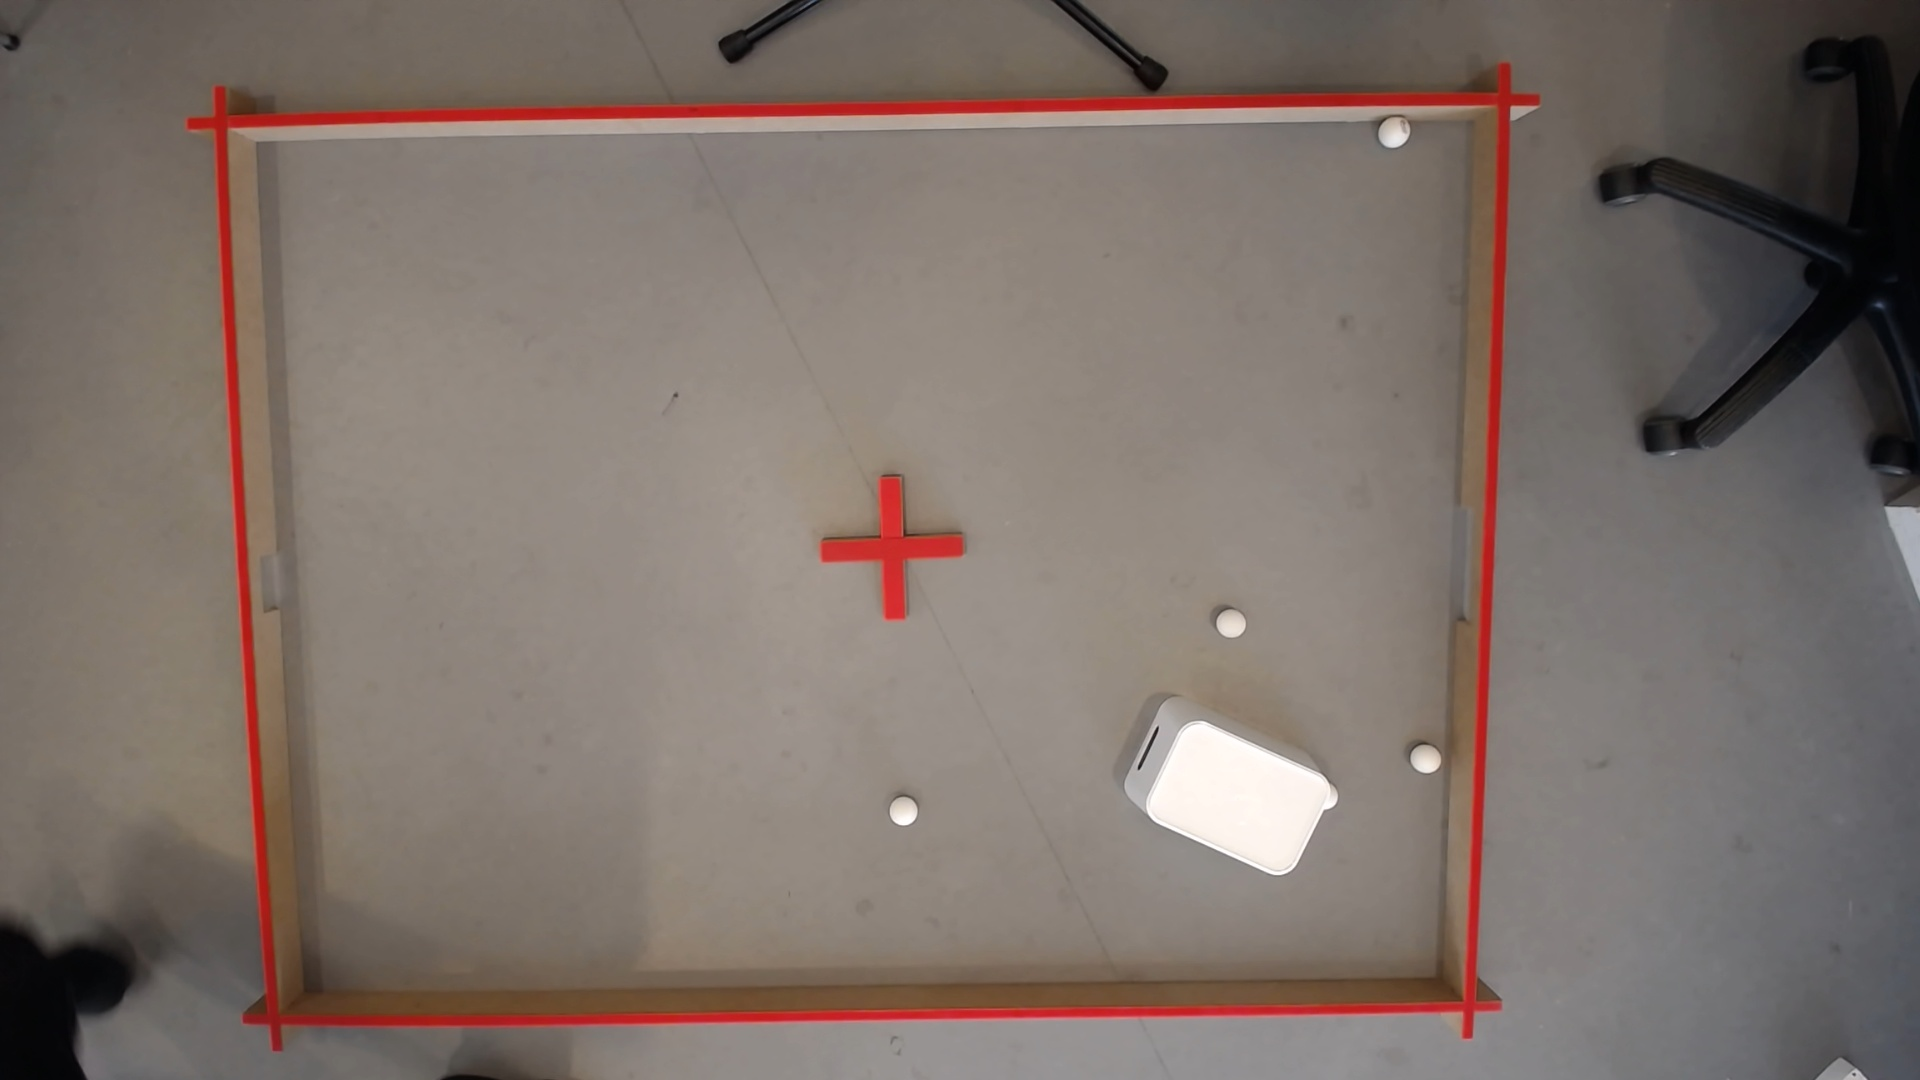balls: (1137, 711, 1342, 886), (1378, 121, 1410, 153), (1215, 611, 1247, 641), (887, 799, 920, 828)
car: (1411, 750, 1440, 777)
